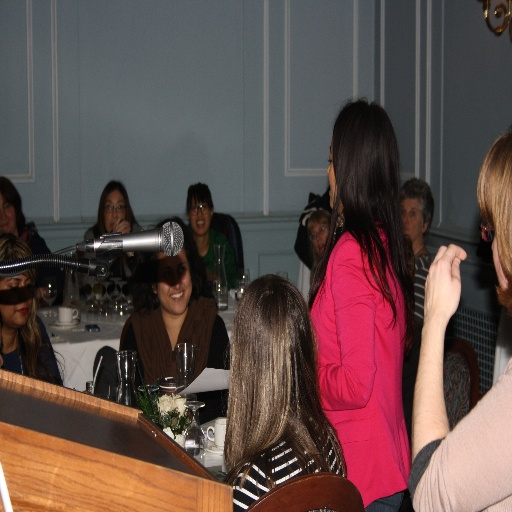hand: (422, 242, 465, 326), (112, 215, 131, 234)
